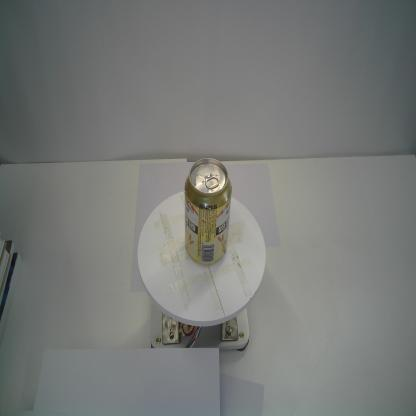Alcohol: (182, 156, 232, 268)
